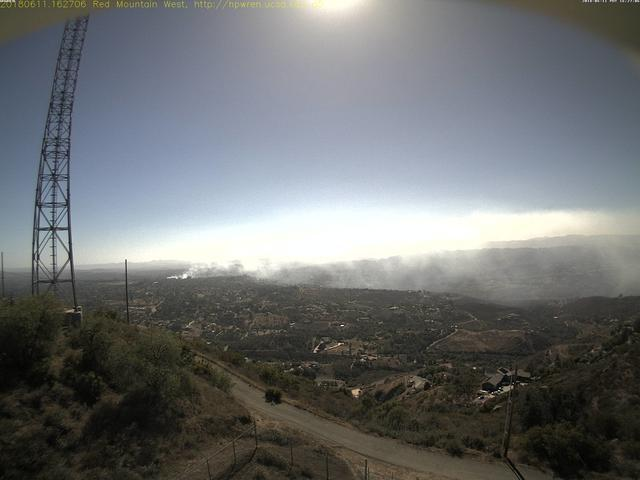Smoke: (164, 240, 509, 292)
